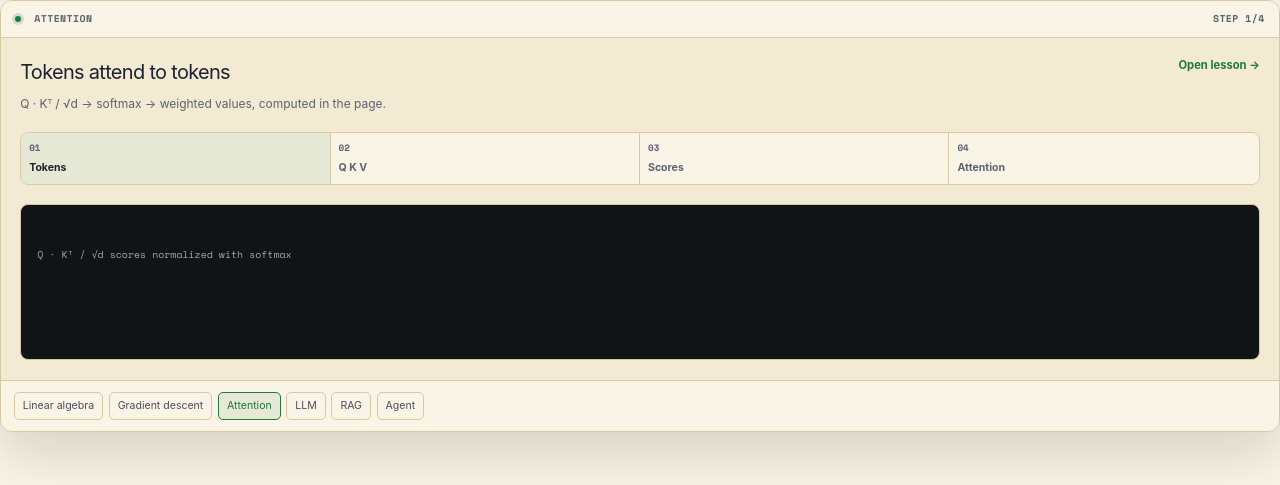
it: LiveComputation › lets a visitor change the visible computation without a page reload
Click the tab "Gradient descent".
click(160, 406)  # box left=109, top=392, right=212, bottom=420
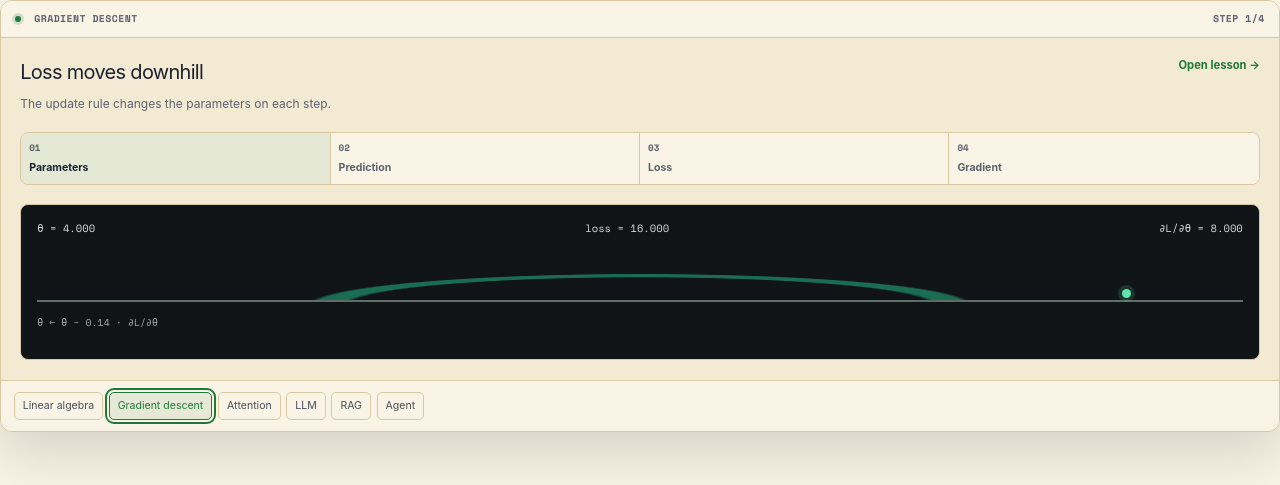
Check: the heading "Loss moves downhill" is shown, box left=20, top=60, right=203, bottom=84
Check: the text "θ ← θ − 0.14 · ∂L/∂θ" is shown, box left=37, top=315, right=158, bottom=330
